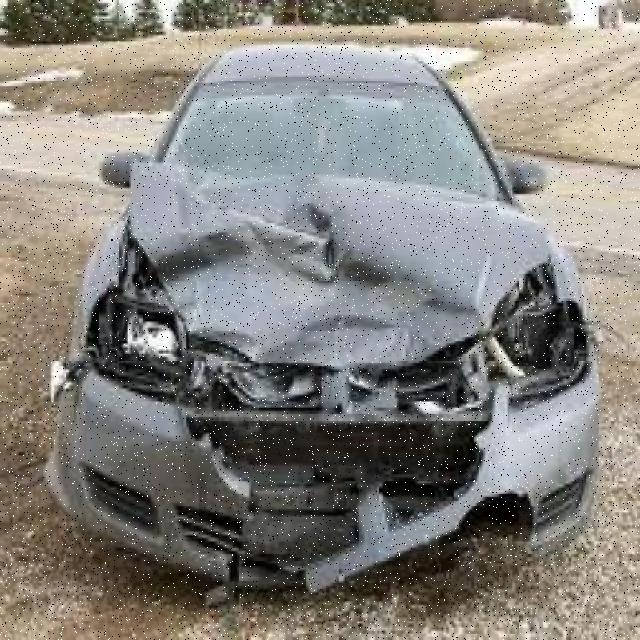damage: (37, 158, 595, 602)
